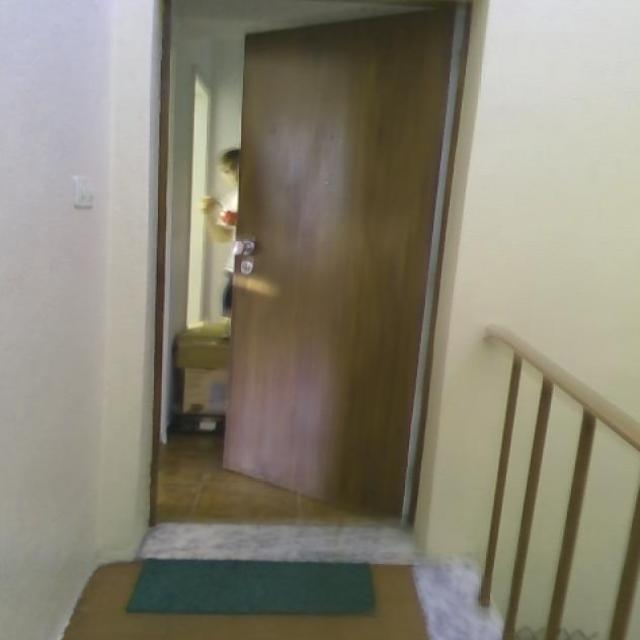door: (219, 5, 467, 525)
